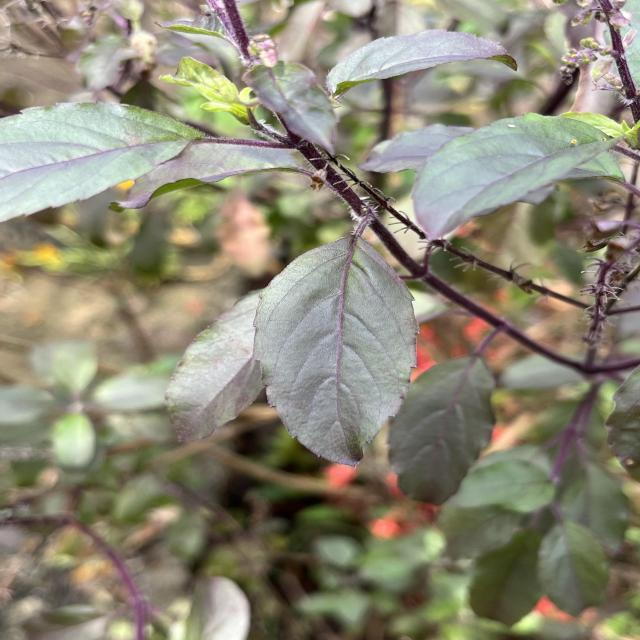Ocimum tenuiflorum: (250, 233, 424, 471)
